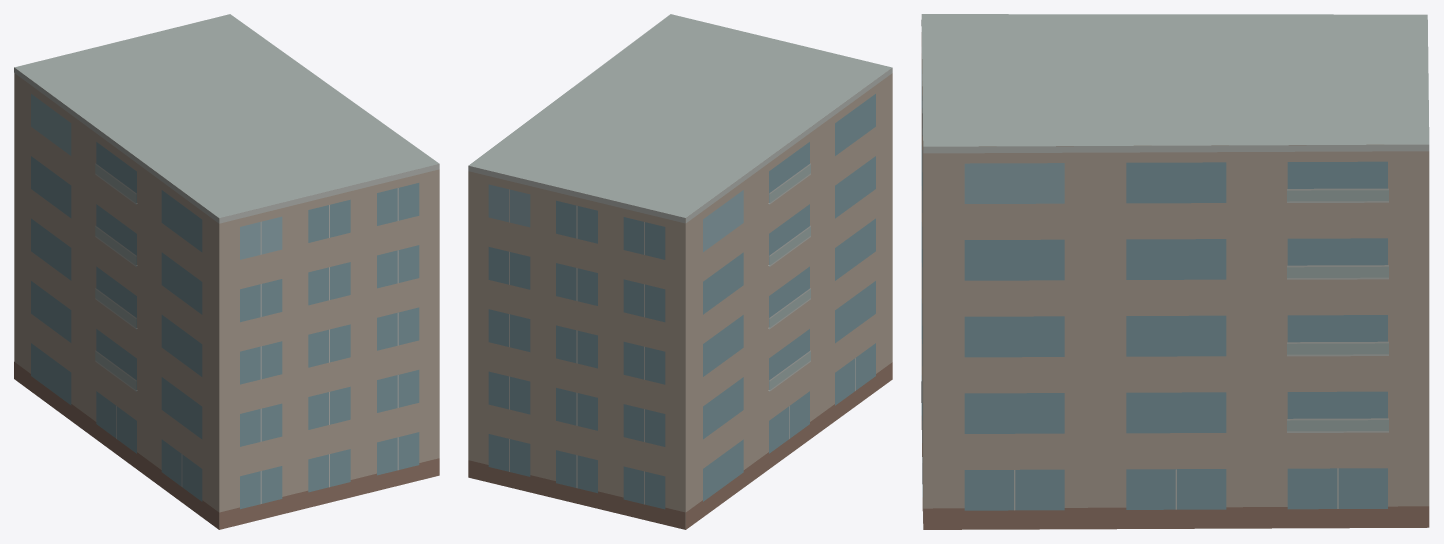
The model's file is survey-upis-32990058.glb.
The picture shows the model from 3 angles, left to right: view 1: azimuth 30°, elevation 25°; view 2: azimuth 150°, elevation 25°; view 3: azimuth 270°, elevation 25°; orthographic projection. The views are drawn at different scales.
Visible parts, largest first — view 1: survey-upis-32990058.tmp; view 2: survey-upis-32990058.tmp; view 3: survey-upis-32990058.tmp.
Part boxes in pixels (x1,y1,x2,y2): survey-upis-32990058.tmp: (14,14,439,529); survey-upis-32990058.tmp: (468,14,892,529); survey-upis-32990058.tmp: (921,14,1429,529).
Size of the model in its own units: 10.35 by 13.9 by 16.71.
